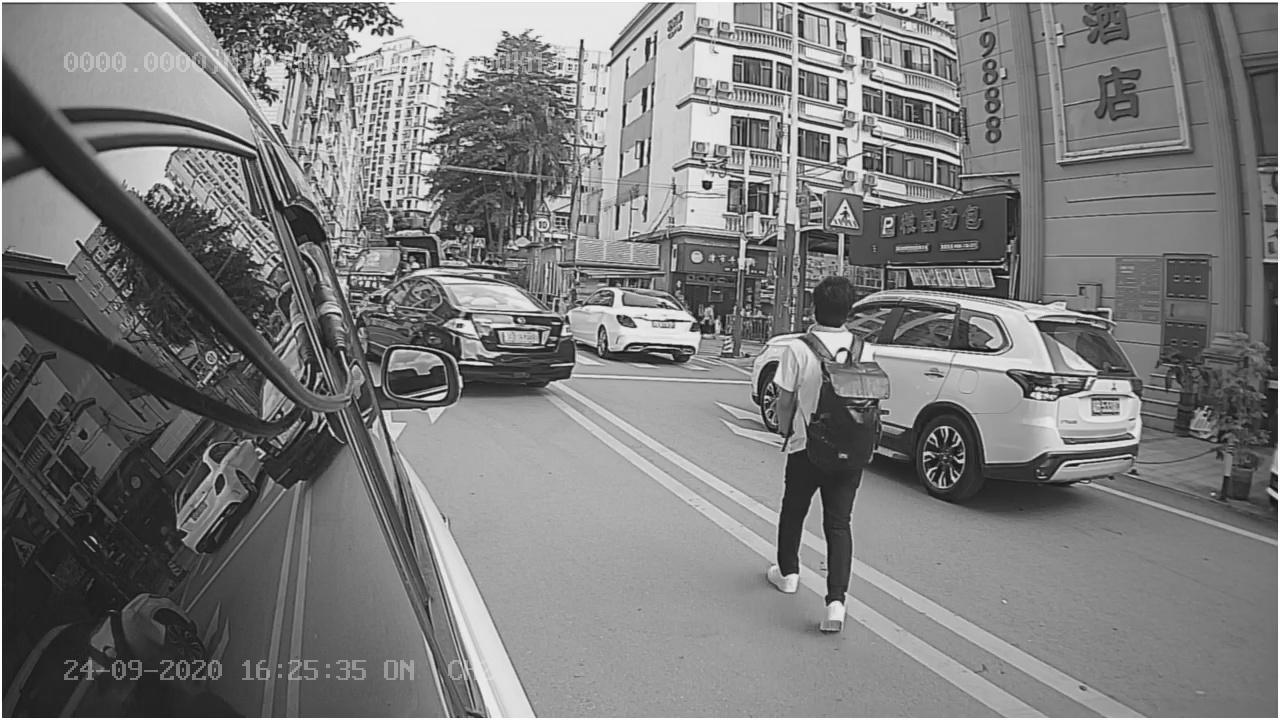person: (749, 269, 900, 644)
